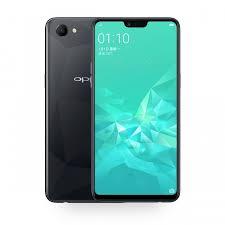oppo: (91, 15, 183, 203), (42, 15, 97, 203)
